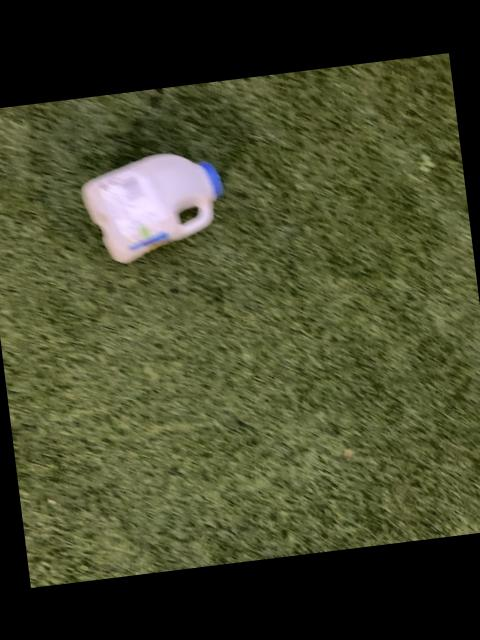plastic: (83, 154, 223, 263)
